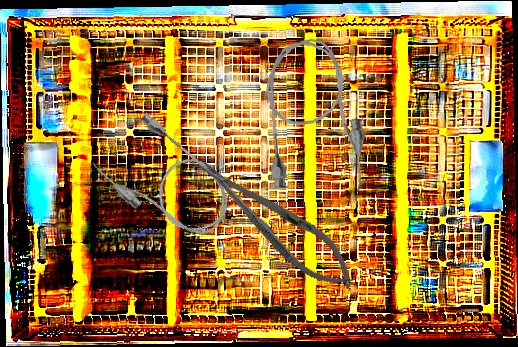Cannula: (87, 106, 245, 256), (257, 33, 371, 202)
Needle Holder: (187, 144, 367, 303)
